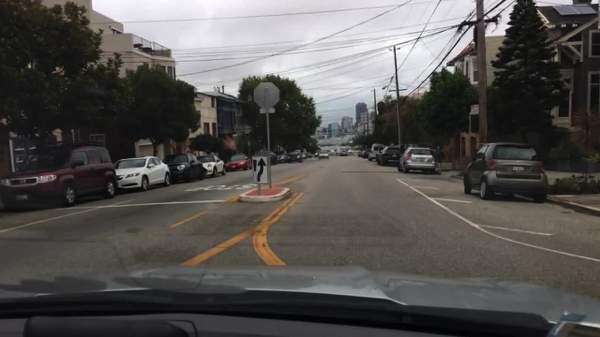car: (1, 143, 117, 210), (462, 141, 547, 201), (111, 156, 172, 192), (164, 153, 207, 183), (399, 146, 436, 174), (196, 154, 227, 177), (223, 153, 254, 172), (378, 147, 403, 168), (368, 143, 387, 161), (288, 151, 304, 163), (274, 150, 289, 162), (268, 153, 279, 166), (359, 149, 369, 158), (319, 149, 329, 158), (340, 149, 348, 157), (301, 151, 307, 160), (314, 151, 320, 158), (305, 152, 312, 157), (334, 149, 341, 154), (358, 149, 362, 155)
traffic sign: (254, 81, 281, 115), (252, 157, 269, 184), (470, 105, 479, 116)
